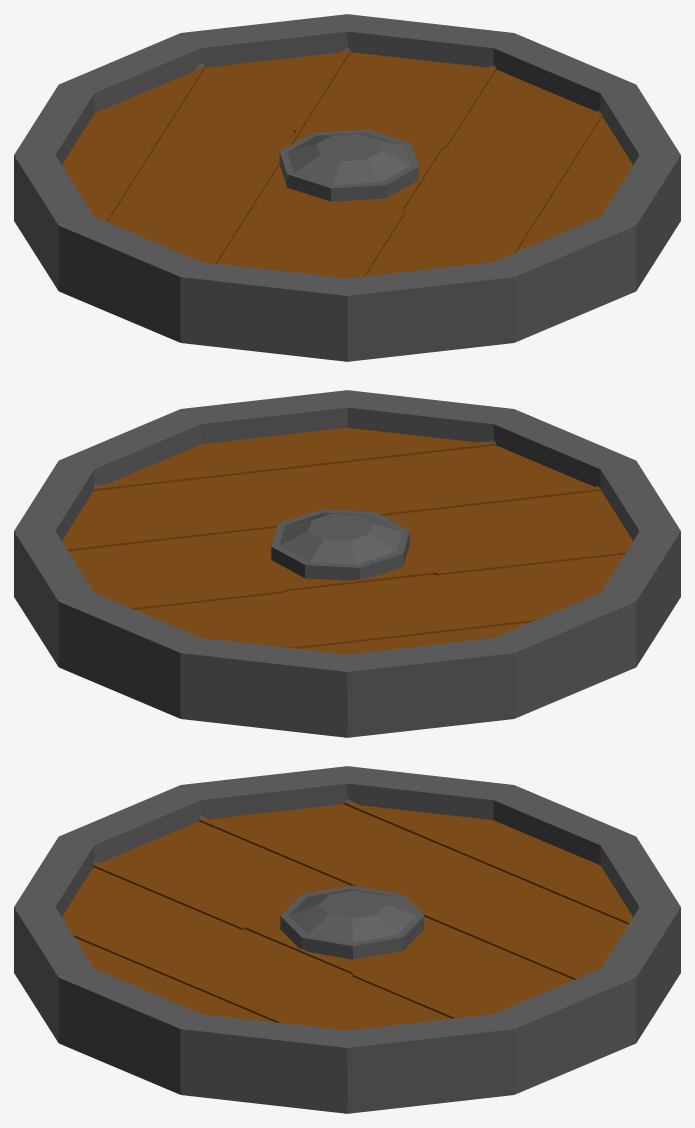
The model's file is shield.fbx.
3 views of the same model, one above another, from view 1: azimuth 30°, elevation 25°; view 2: azimuth 150°, elevation 25°; view 3: azimuth 270°, elevation 25° (orthographic).
Visible parts, largest first — view 1: Circle; view 2: Circle; view 3: Circle.
Part boxes in pixels (x1=…): Circle: x1=14, y1=14, x2=680, y2=361; Circle: x1=14, y1=390, x2=680, y2=737; Circle: x1=14, y1=766, x2=680, y2=1113.
Bounding box in the file's own units: 200 × 23.28 × 200.
